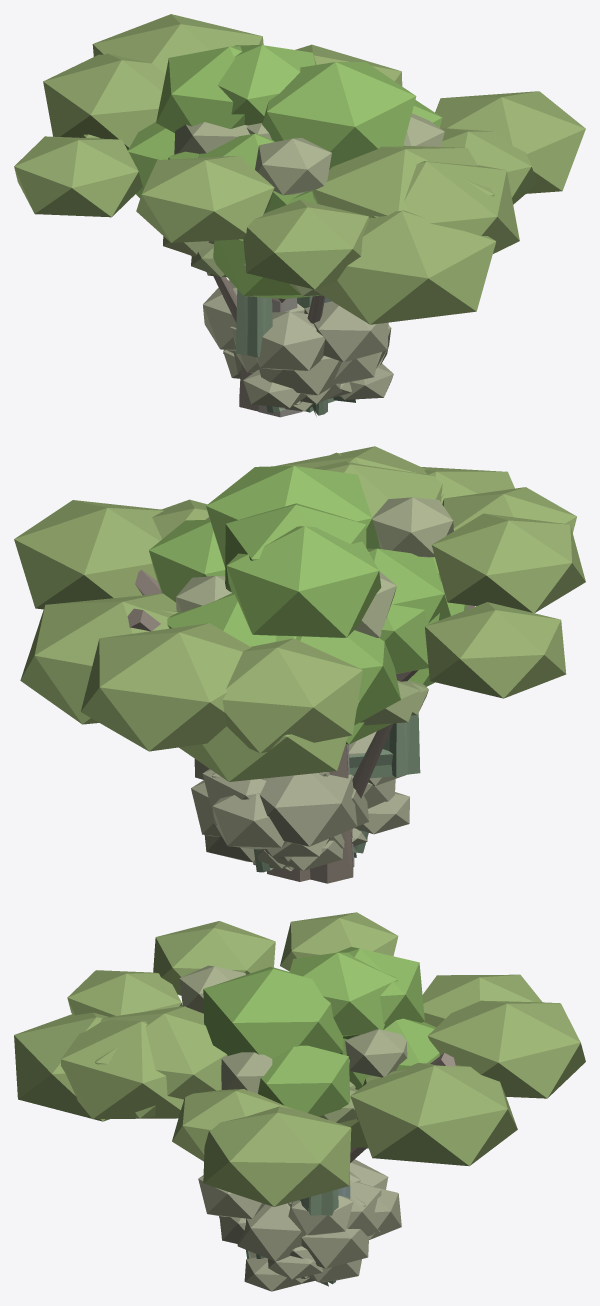
File: trees-caatinga.glb
3 views of the same model, one above another, from view 1: azimuth 30°, elevation 25°; view 2: azimuth 150°, elevation 25°; view 3: azimuth 270°, elevation 25° (orthographic). The views are drawn at different scales.
Parts seen in each view (by area): view 1: umbuzeiro, juazeiro, bush-caatinga-head-b, catingueira, bush-caatinga-waist-b, mandacaru, jurema-preta, bush-caatinga-head-a; view 2: umbuzeiro, juazeiro, bush-caatinga-head-b, catingueira, bush-caatinga-waist-b, bush-caatinga-head-a, jurema-preta, mandacaru; view 3: umbuzeiro, juazeiro, bush-caatinga-head-b, catingueira, bush-caatinga-head-a, bush-caatinga-waist-b, mandacaru, jurema-preta.
Part boxes in pixels (x1,y1,x2,y2): umbuzeiro: (14, 14, 585, 324); juazeiro: (128, 45, 442, 411); bush-caatinga-head-b: (203, 280, 391, 395); catingueira: (174, 113, 444, 417); bush-caatinga-waist-b: (223, 348, 393, 408); mandacaru: (235, 289, 334, 412); jurema-preta: (163, 236, 324, 323); bush-caatinga-head-a: (230, 303, 378, 384); umbuzeiro: (14, 446, 585, 881); juazeiro: (149, 466, 468, 883); bush-caatinga-head-b: (191, 731, 405, 849); catingueira: (176, 497, 453, 866); bush-caatinga-waist-b: (267, 792, 409, 870); bush-caatinga-head-a: (202, 769, 369, 862); jurema-preta: (352, 680, 428, 798); mandacaru: (349, 713, 420, 778); umbuzeiro: (14, 912, 585, 1206); juazeiro: (203, 947, 439, 1148); bush-caatinga-head-b: (198, 1159, 401, 1278); catingueira: (179, 965, 407, 1093); bush-caatinga-head-a: (219, 1171, 381, 1282); bush-caatinga-waist-b: (244, 1246, 322, 1291); mandacaru: (299, 1189, 338, 1215); jurema-preta: (319, 1081, 357, 1123).
Bounding box in the file's own units: 7.91 × 5 × 8.42.
